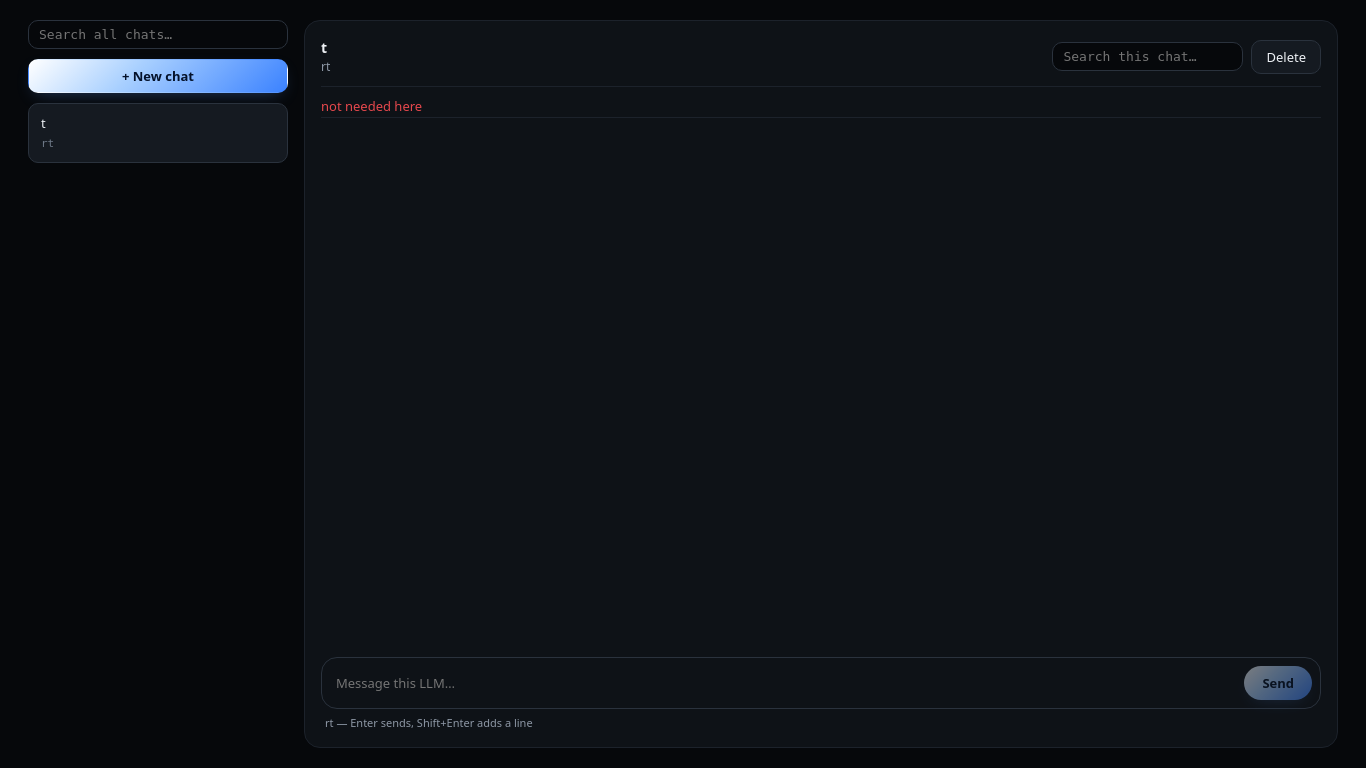
ChatView streaming send › a pre-flight failure puts the text back in the input so nothing is lost
Type "important message" into the text box with placeholder "Message this LLM…".
click(786, 682); type("important message")  # box x1=336 y1=666 x2=1236 y2=700
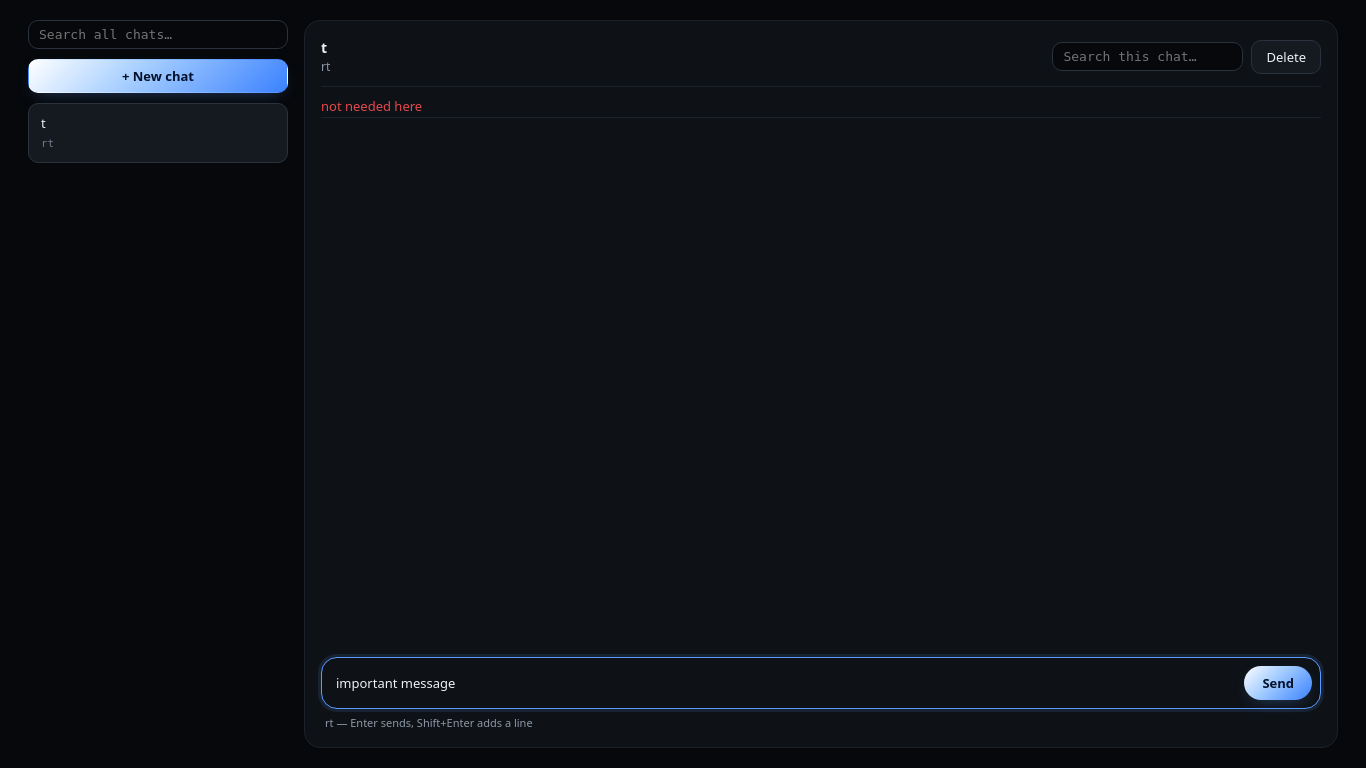
Click the button "Send".
click(1278, 682)  # box x1=1244 y1=666 x2=1312 y2=700
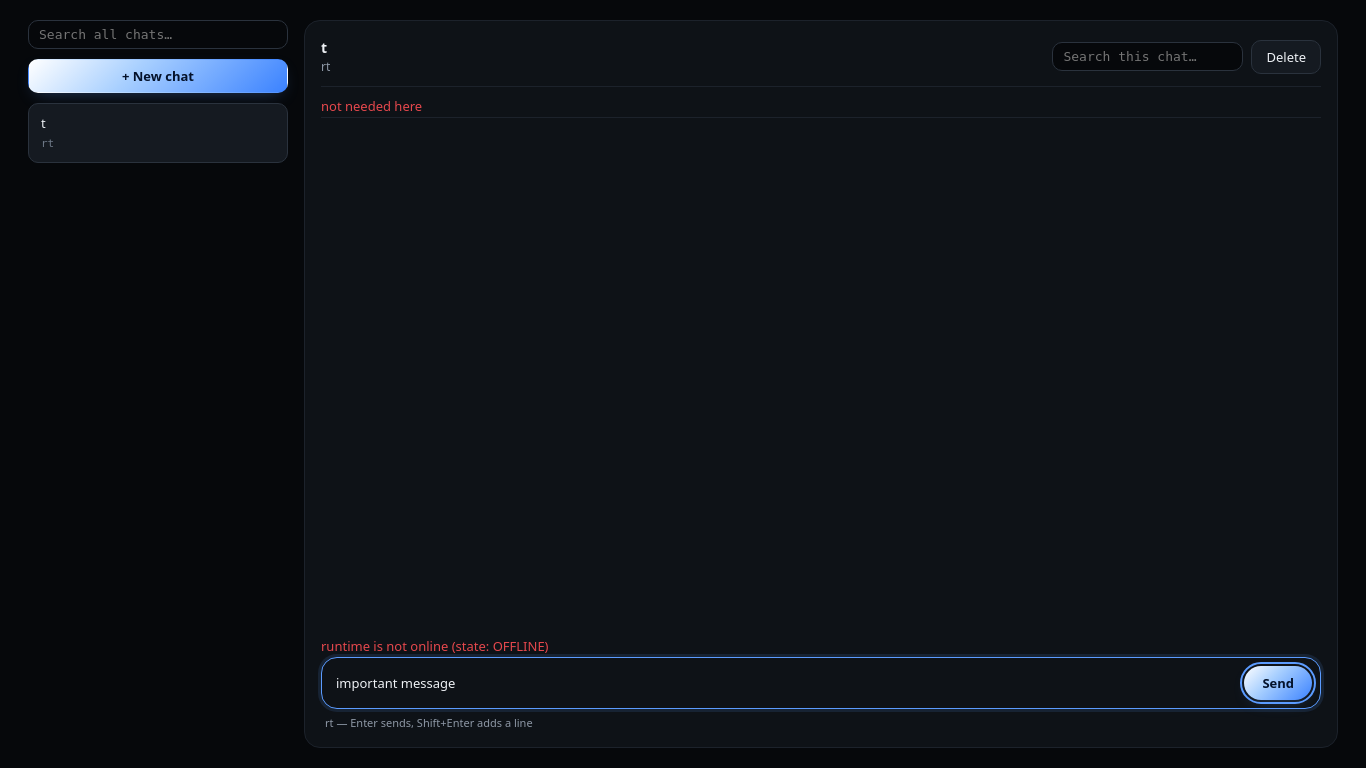
expect the text "runtime is not online (state: OFFLINE)" is shown: met, box x1=321 y1=637 x2=548 y2=655
